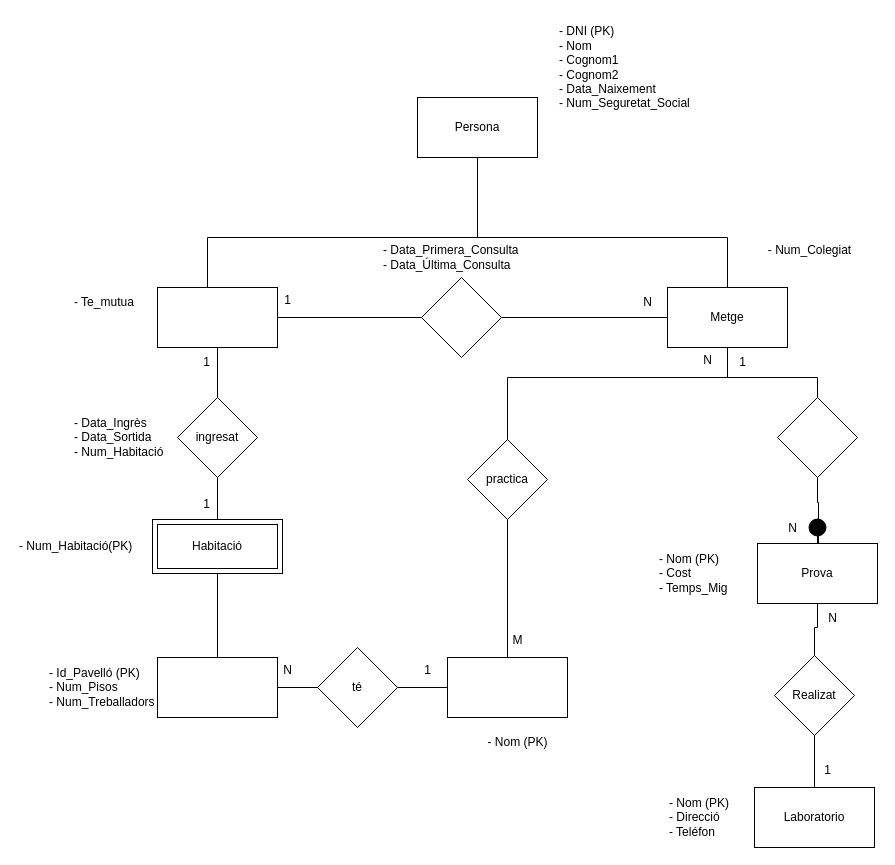
The diagram is 895 pixels wide and 865 high, and some of its shapes have lost their labels. Here are the shapes that lost their labels. From the top down, the box of each, then its label:
(156, 286, 278, 348): Pacient
(420, 276, 502, 358): atès
(776, 396, 858, 478): demana
(156, 656, 278, 718): Pavelló
(446, 656, 568, 718): Especialitat
